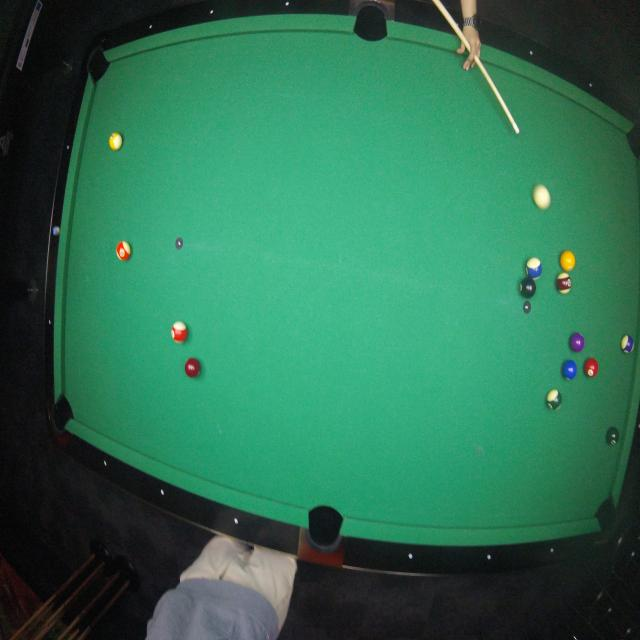cue ball: (533, 184, 552, 212)
other: (171, 317, 191, 347), (182, 354, 204, 381), (115, 236, 133, 268), (518, 275, 537, 298), (525, 257, 543, 281), (560, 249, 577, 273), (546, 388, 562, 412), (556, 273, 572, 296), (562, 358, 578, 381), (109, 129, 124, 153), (569, 332, 585, 354), (584, 356, 598, 378), (622, 332, 634, 356), (606, 426, 619, 446)
